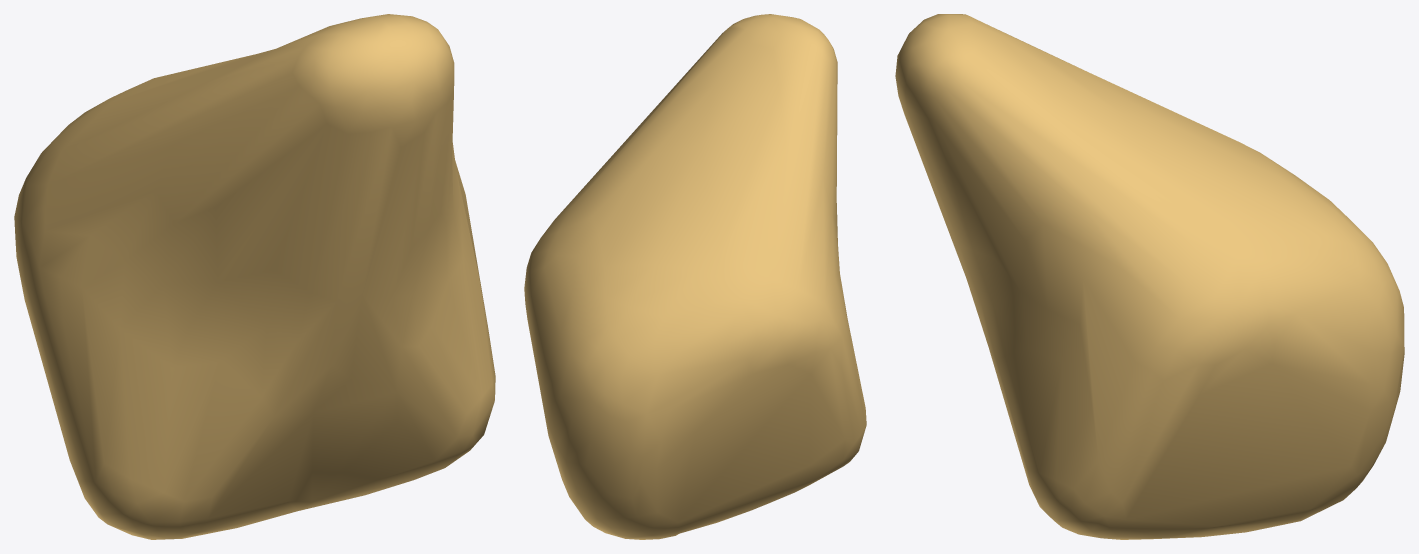
The model's file is nervoso-pyramis-of-vermis.glb.
3 renders of one model, left to right at view 1: azimuth 30°, elevation 25°; view 2: azimuth 150°, elevation 25°; view 3: azimuth 270°, elevation 25°, orthographic. The views are drawn at different scales.
Visible parts, largest first — view 1: Pyramis of vermis; view 2: Pyramis of vermis; view 3: Pyramis of vermis.
Boxes of the visible parts, left/top/right/bottom form: Pyramis of vermis: left=14, top=14, right=495, bottom=539; Pyramis of vermis: left=524, top=14, right=866, bottom=539; Pyramis of vermis: left=895, top=14, right=1404, bottom=539.
Bounding box in the file's own units: 0.0126 × 0.0166 × 0.0157.
